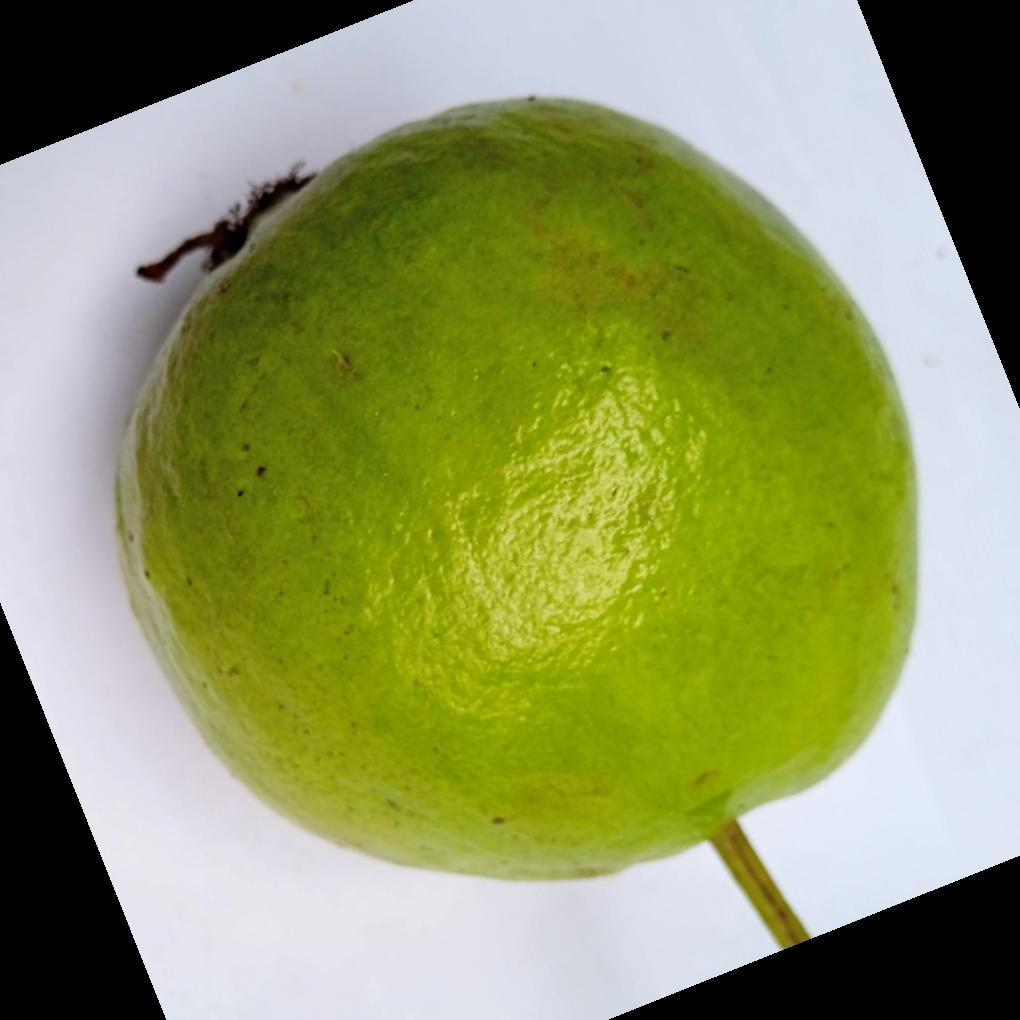FreshGuava: (110, 96, 922, 946)
